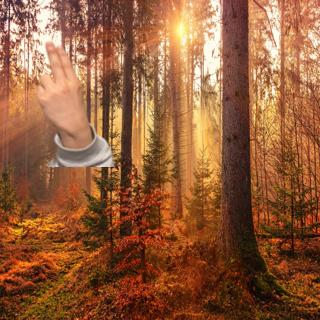DHAVE: (31, 36, 92, 137)
